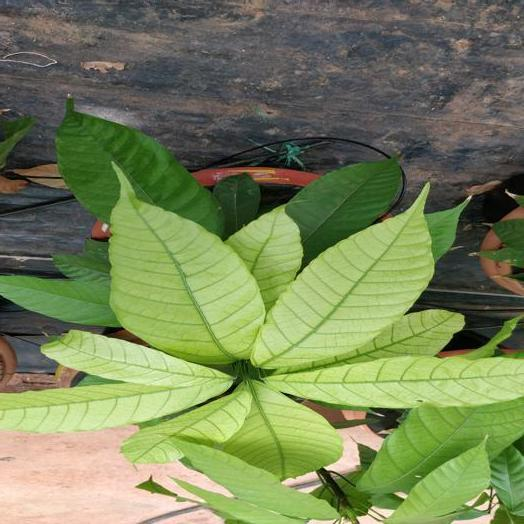Healthy Leaf: (57, 102, 221, 232), (286, 159, 402, 265), (0, 276, 119, 325), (213, 174, 259, 236), (54, 240, 110, 279)
Iron: (252, 184, 432, 368), (110, 172, 264, 363), (267, 357, 523, 408), (0, 379, 228, 432), (223, 379, 341, 479), (43, 330, 231, 388), (122, 386, 251, 462), (316, 309, 463, 367), (226, 205, 302, 311)
